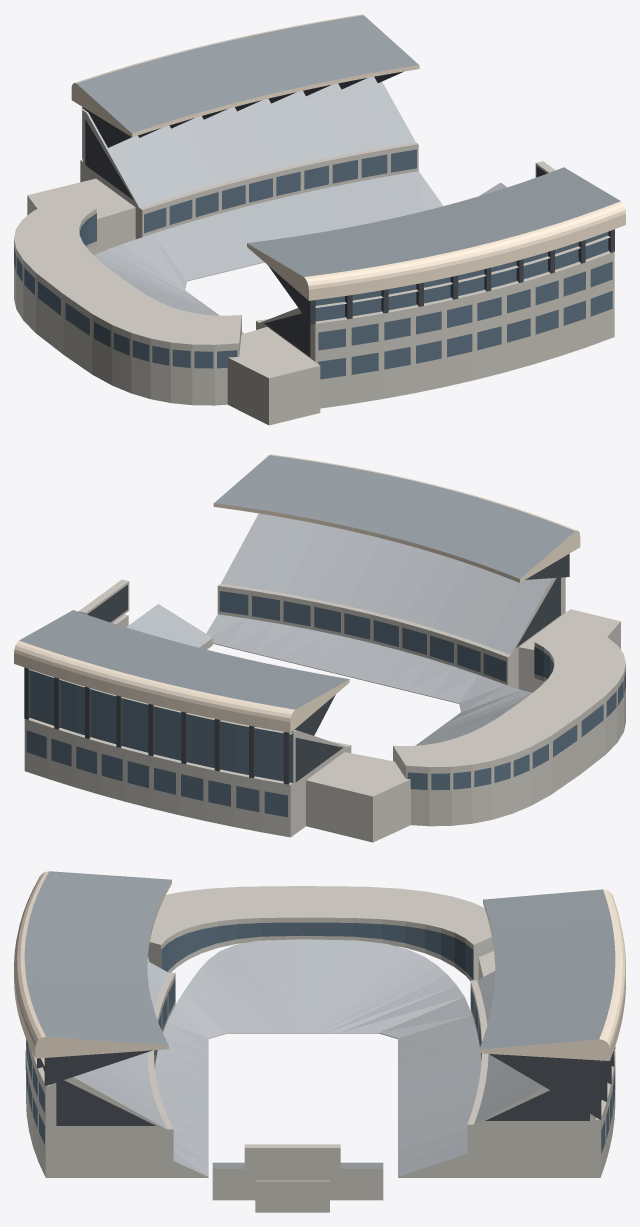
Rendered from sea-husky-stadium.glb.
3 renders of one model, top to bottom at view 1: azimuth 30°, elevation 25°; view 2: azimuth 150°, elevation 25°; view 3: azimuth 270°, elevation 25°, orthographic. The views are drawn at different scales.
Parts seen in each view (by area): view 1: Husky Stadium; view 2: Husky Stadium; view 3: Husky Stadium.
Boxes of the visible parts, x1,y1,x2,y2 form: Husky Stadium: (14, 14, 625, 425); Husky Stadium: (14, 454, 625, 842); Husky Stadium: (14, 871, 625, 1212).
Bounding box in the file's own units: 232 × 59.7 × 229.
